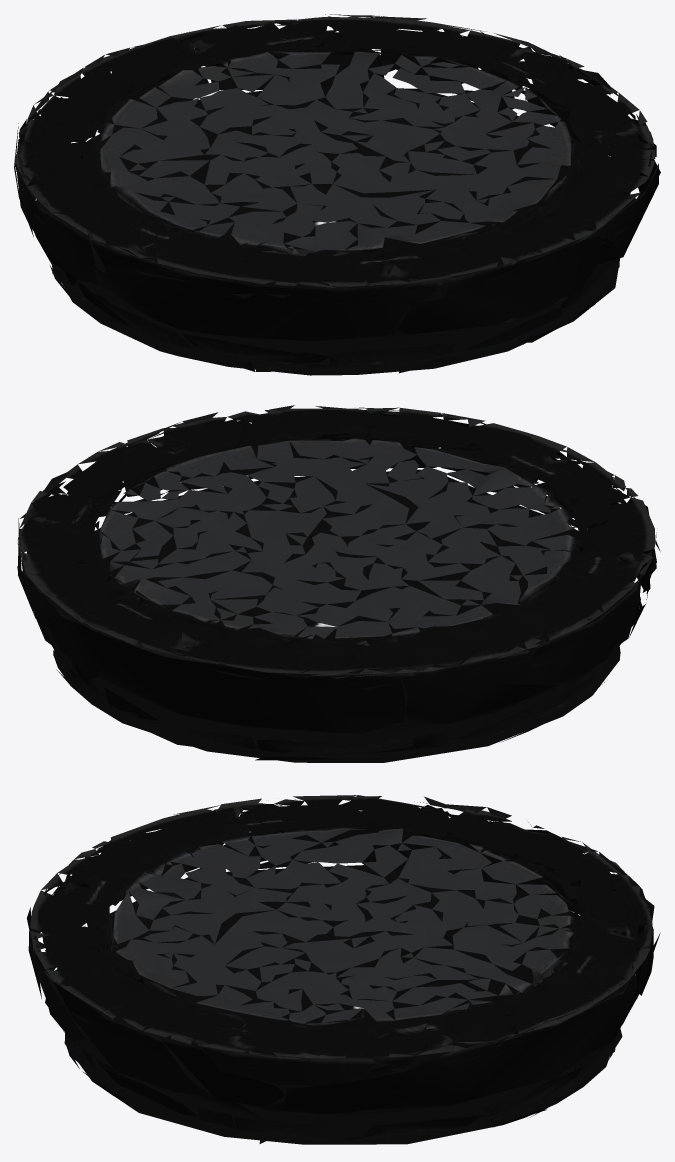
Rendered from speakerphone.glb.
The picture shows the model from 3 angles, top to bottom: view 1: azimuth 30°, elevation 25°; view 2: azimuth 150°, elevation 25°; view 3: azimuth 270°, elevation 25°; orthographic projection. The views are drawn at different scales.
Parts seen in each view (by area): view 1: 07-speakerphone; view 2: 07-speakerphone; view 3: 07-speakerphone.
Part boxes in pixels (left/top/right/bottom): 07-speakerphone: left=14, top=14, right=660, bottom=375; 07-speakerphone: left=17, top=405, right=660, bottom=762; 07-speakerphone: left=27, top=795, right=660, bottom=1144.
Bounding box in the file's own units: 0.2435 × 0.0481 × 0.2476.
Materials: 1 (1 with a texture image).
